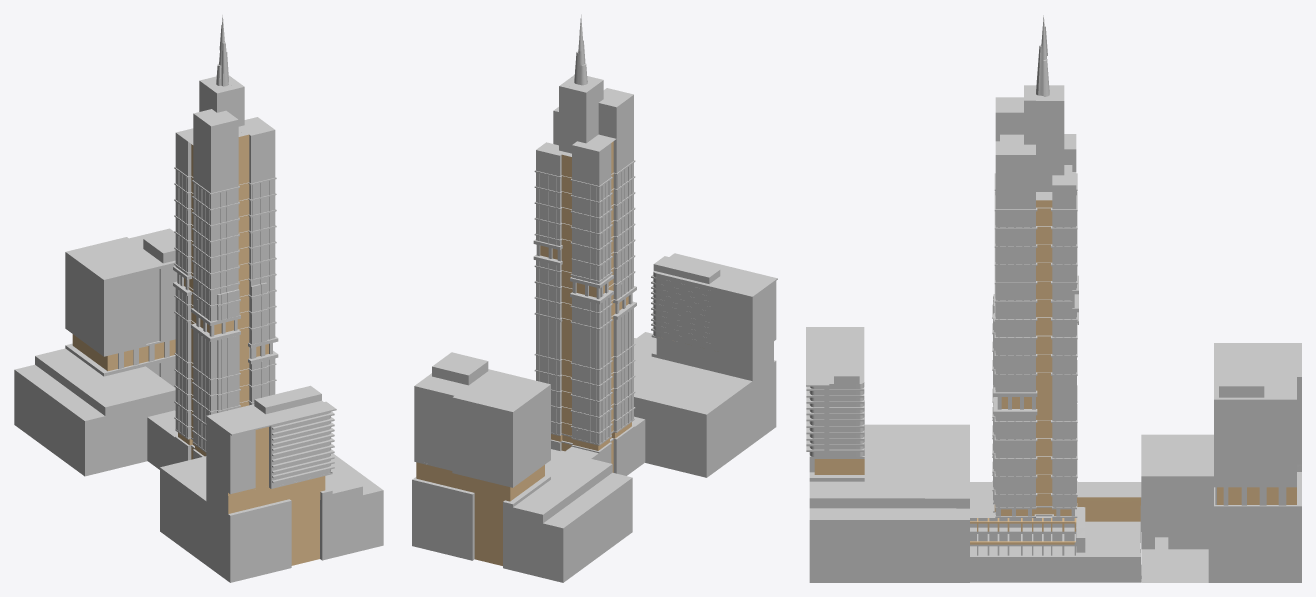
File: tashkent_city_nest_one.glb
3 views of the same model, side by side, from view 1: azimuth 30°, elevation 25°; view 2: azimuth 150°, elevation 25°; view 3: azimuth 270°, elevation 25° (orthographic). The views are drawn at different scales.
Parts seen in each view (by area): view 1: __NEST_ONE__asasiy_bino, Cube_2, Cube_1, Cube, Cone; view 2: __NEST_ONE__asasiy_bino, Cube_2, Cube_1, Cube, Cone; view 3: __NEST_ONE__asasiy_bino, Cube_2, Cube_1, Cube, Cone.
Part boxes in pixels (box(x1,y1,x2,y2)): __NEST_ONE__asasiy_bino: box(147, 75, 278, 469); Cube_2: box(14, 228, 177, 476); Cube_1: box(160, 453, 383, 582); Cube: box(206, 385, 336, 495); Cone: box(216, 15, 228, 86); __NEST_ONE__asasiy_bino: box(533, 75, 645, 475); Cube_2: box(412, 352, 632, 582); Cube_1: box(634, 332, 776, 477); Cube: box(653, 253, 777, 359); Cone: box(574, 14, 587, 85); __NEST_ONE__asasiy_bino: box(964, 85, 1141, 582); Cube_2: box(1141, 343, 1301, 582); Cube_1: box(809, 400, 1076, 582); Cube: box(806, 327, 864, 458); Cone: box(1036, 15, 1049, 96).
Bounding box in the file's own units: 5 × 14.68 × 12.29.
